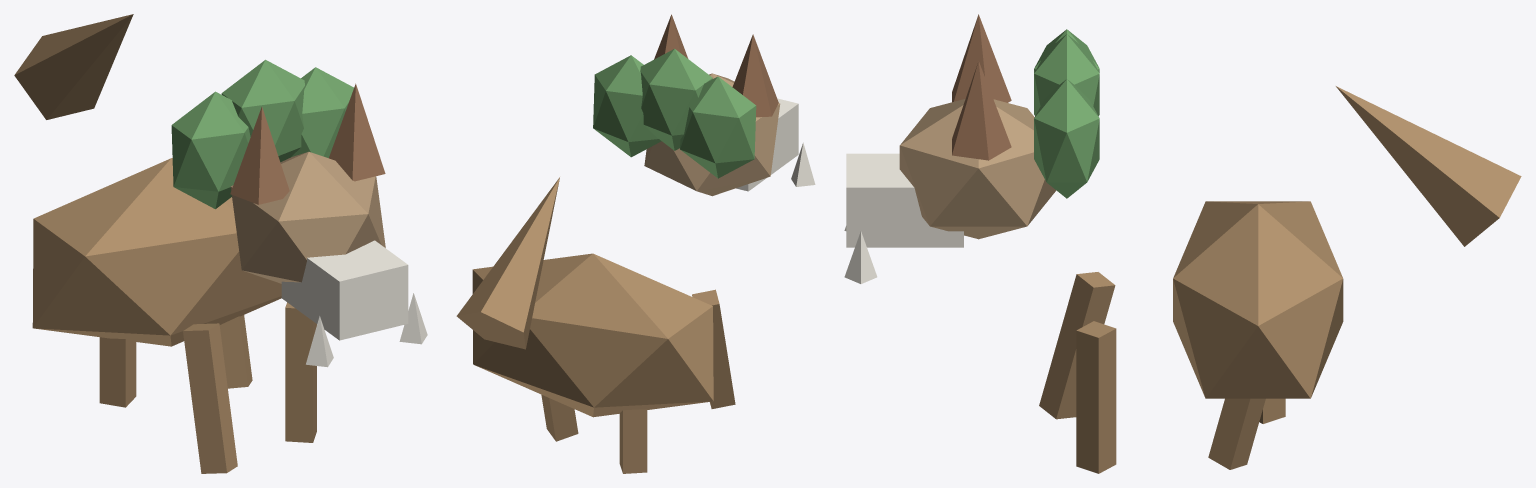
Rendered from npcpose_wolf_walk_00.glb.
3 views of the same model, side by side, from view 1: azimuth 30°, elevation 25°; view 2: azimuth 150°, elevation 25°; view 3: azimuth 270°, elevation 25° (orthographic). The views are drawn at different scales.
Parts seen in each view (by area): view 1: npcpose; view 2: npcpose; view 3: npcpose.
Boxes of the visible parts, bbox=[...] form: npcpose: bbox=[14, 14, 427, 473]; npcpose: bbox=[456, 14, 815, 473]; npcpose: bbox=[844, 14, 1521, 473].
Size of the model in its own units: 0.8873 by 1.22 by 1.84.
